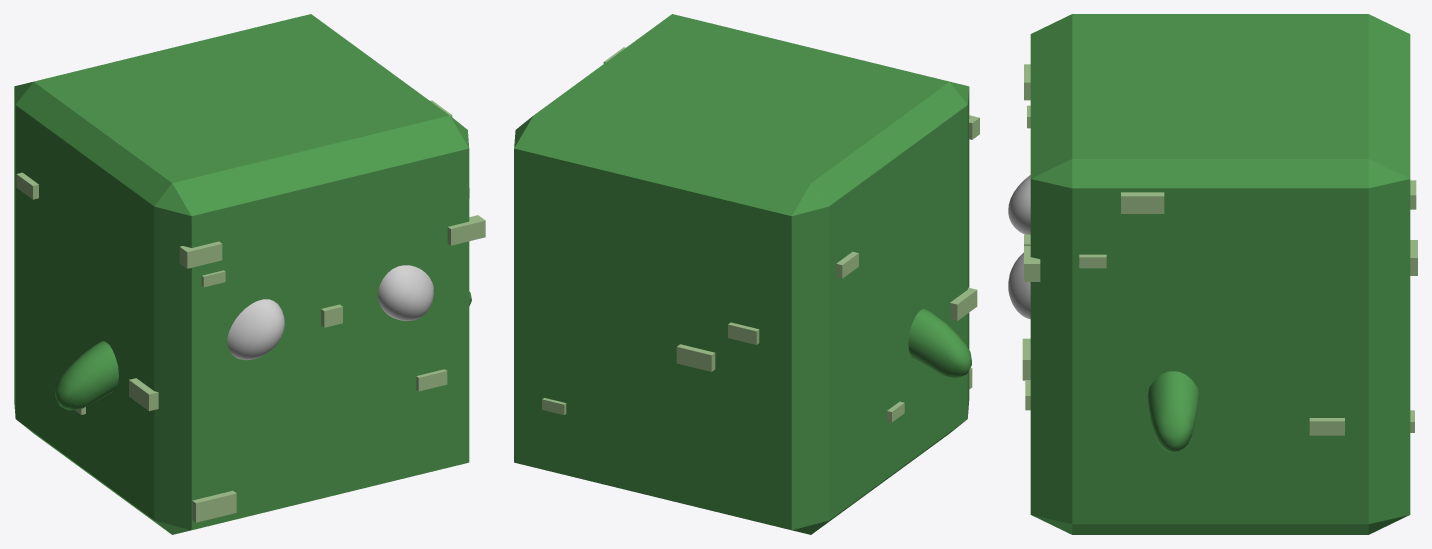
The model's file is Minecraft_skin.fbx.
3 views of the same model, side by side, from view 1: azimuth 30°, elevation 25°; view 2: azimuth 150°, elevation 25°; view 3: azimuth 270°, elevation 25° (orthographic). The views are drawn at different scales.
Visible parts, largest first — view 1: Minecraft_skin, Slime_arm; view 2: Minecraft_skin, Slime_arm; view 3: Minecraft_skin, Slime_arm.
Part boxes in pixels (bbox=[...]): Minecraft_skin: bbox=[14, 14, 485, 534]; Slime_arm: bbox=[55, 291, 471, 410]; Minecraft_skin: bbox=[514, 14, 979, 534]; Slime_arm: bbox=[908, 309, 971, 378]; Minecraft_skin: bbox=[1008, 14, 1417, 534]; Slime_arm: bbox=[1147, 371, 1199, 452].
Bounding box in the file's own units: 90.45 × 72.6 × 73.55.
